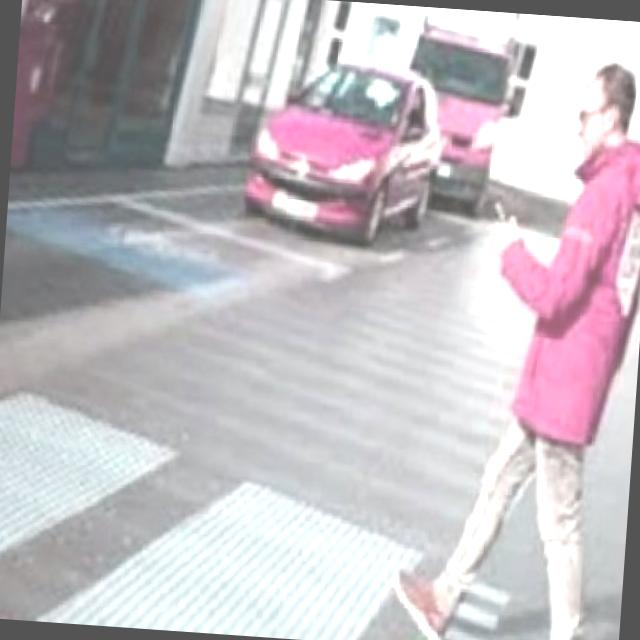Person: (377, 36, 640, 640)
